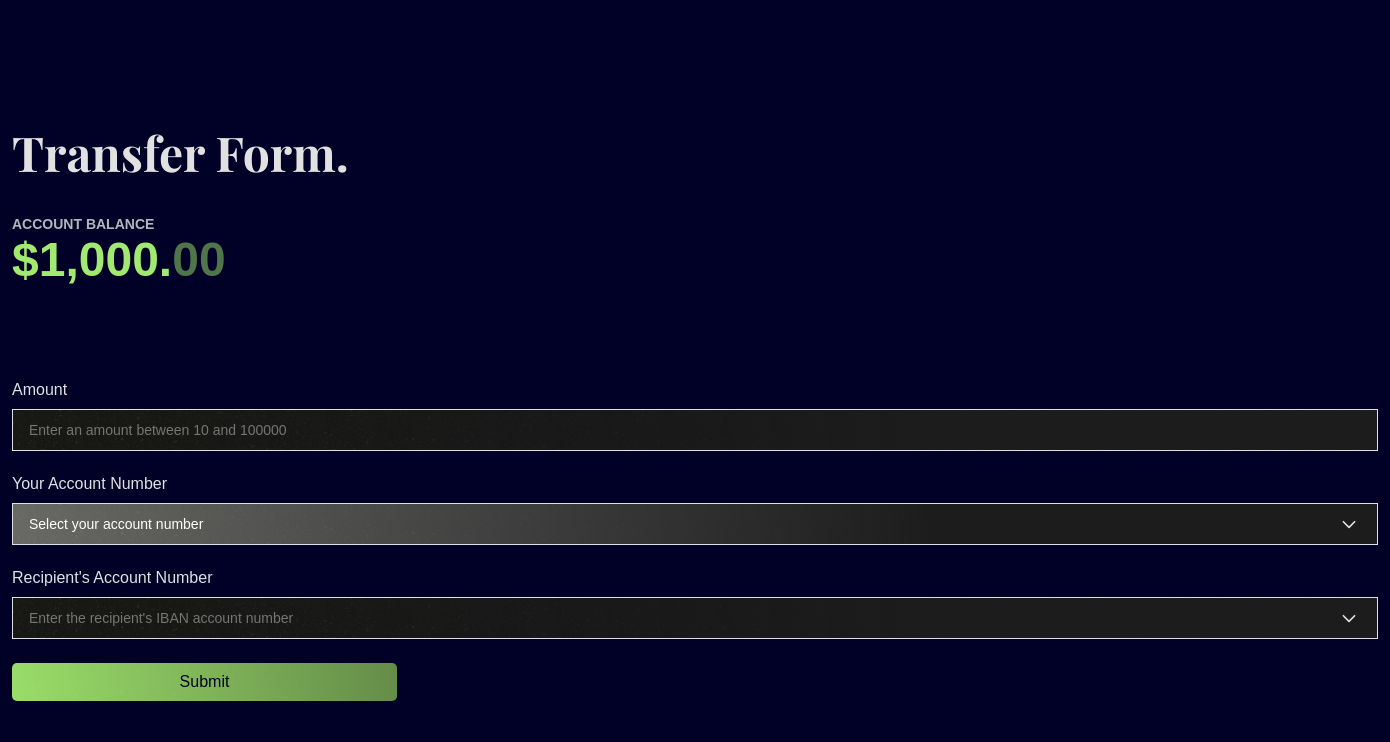
Test case: Transfer Component › validates the recipient account number and prevents submission if invalid
Type "123 2100 0418 4502 0005 1332" into the field with placeholder "Enter the recipient's IBAN account number".
click(695, 618); type("123 2100 0418 4502 0005 1332")  # box x1=12 y1=597 x2=1378 y2=639
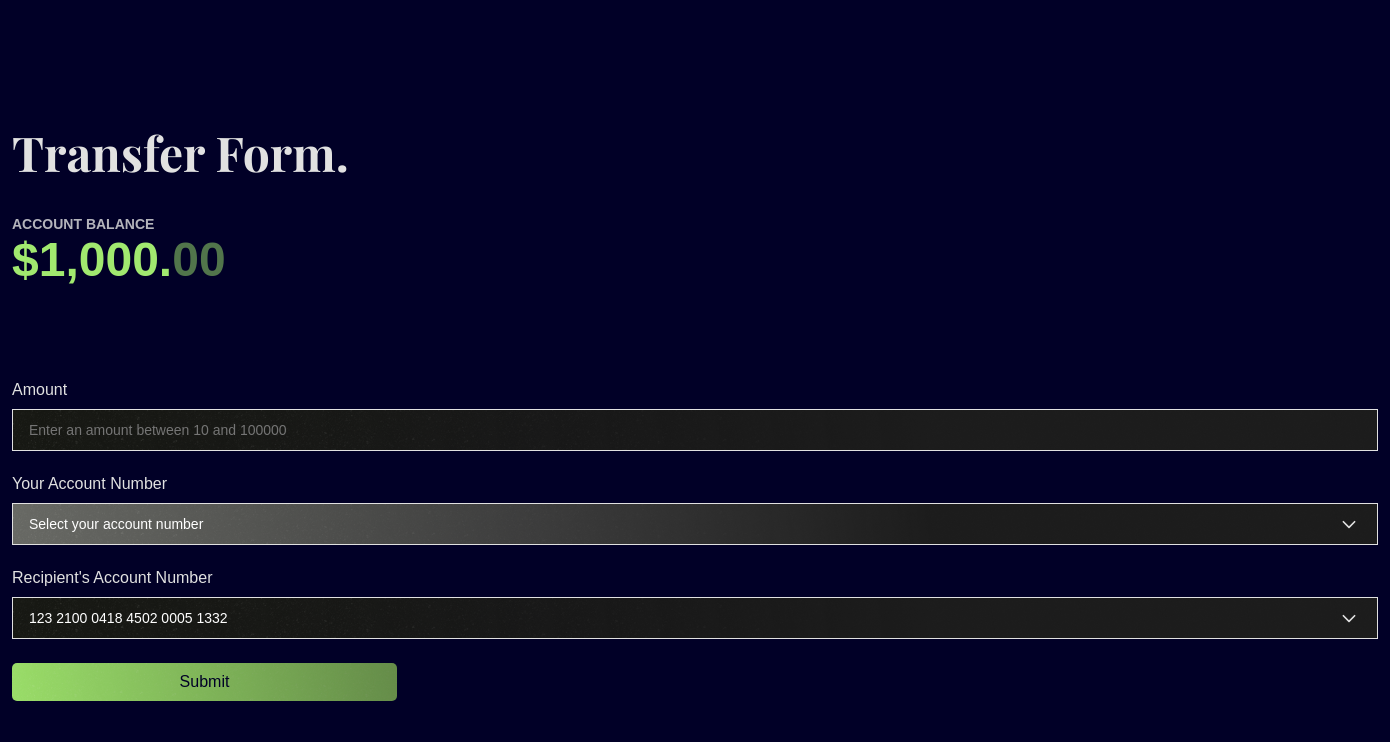
Click the button with test id "submit-transfer".
click(204, 682)  # box x1=12 y1=663 x2=397 y2=701
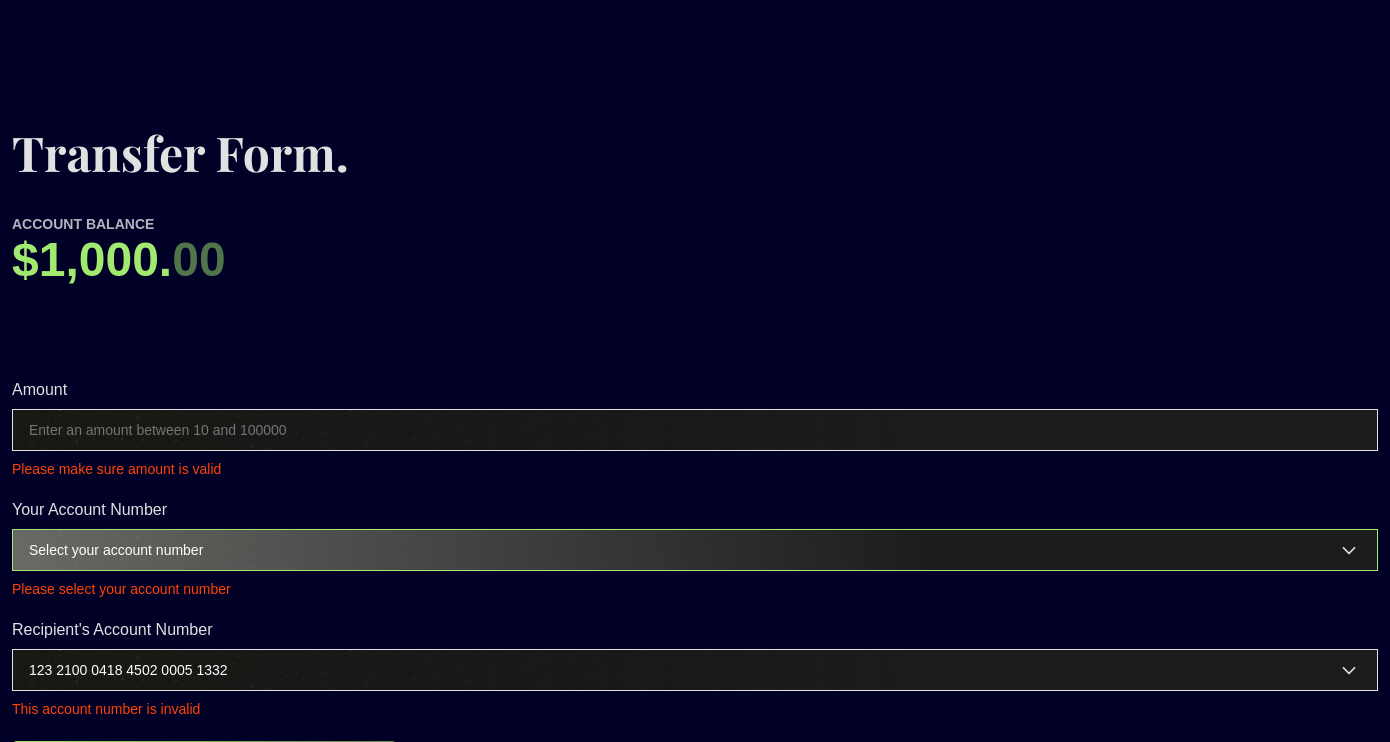
Result: the text "This account number is invalid" is shown at x1=12 y1=701 x2=200 y2=717
